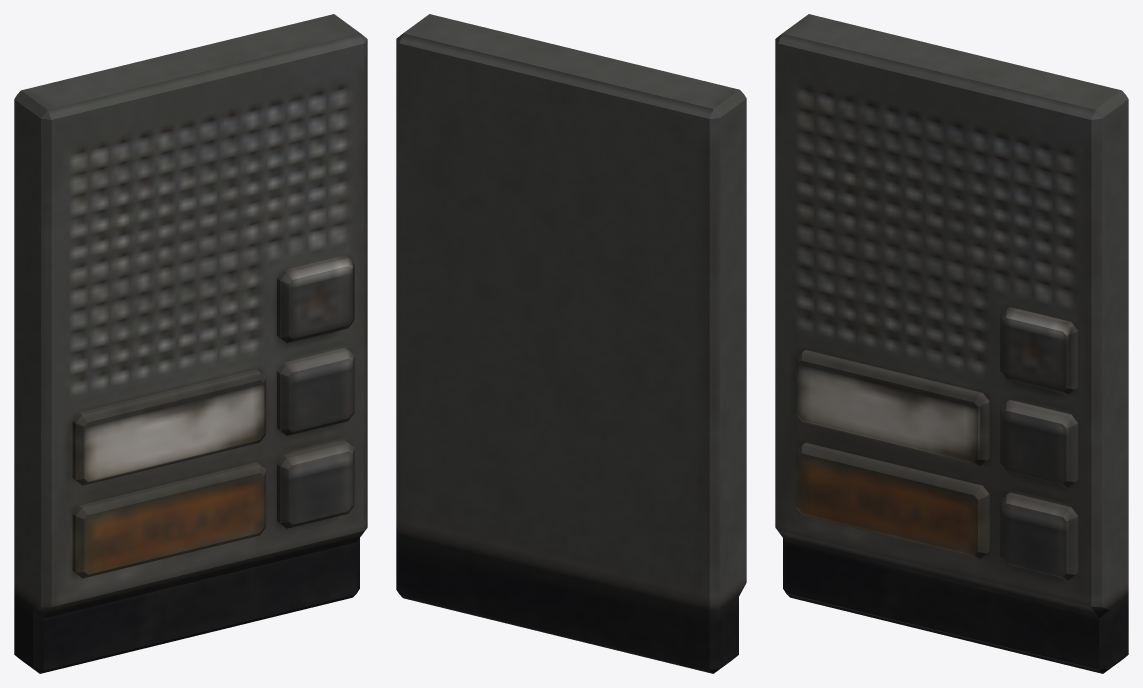
The model's file is button_11.obj.
3 views of the same model, side by side, from view 1: azimuth 30°, elevation 25°; view 2: azimuth 150°, elevation 25°; view 3: azimuth 330°, elevation 25° (orthographic).
Visible parts, largest first — view 1: button_11; view 2: button_11; view 3: button_11.
Boxes of the visible parts, x1=… form: button_11: x1=14, y1=14, x2=367, y2=673; button_11: x1=396, y1=14, x2=746, y2=673; button_11: x1=775, y1=14, x2=1128, y2=673.
Bounding box in the file's own units: 0.12 × 0.2 × 0.026.
